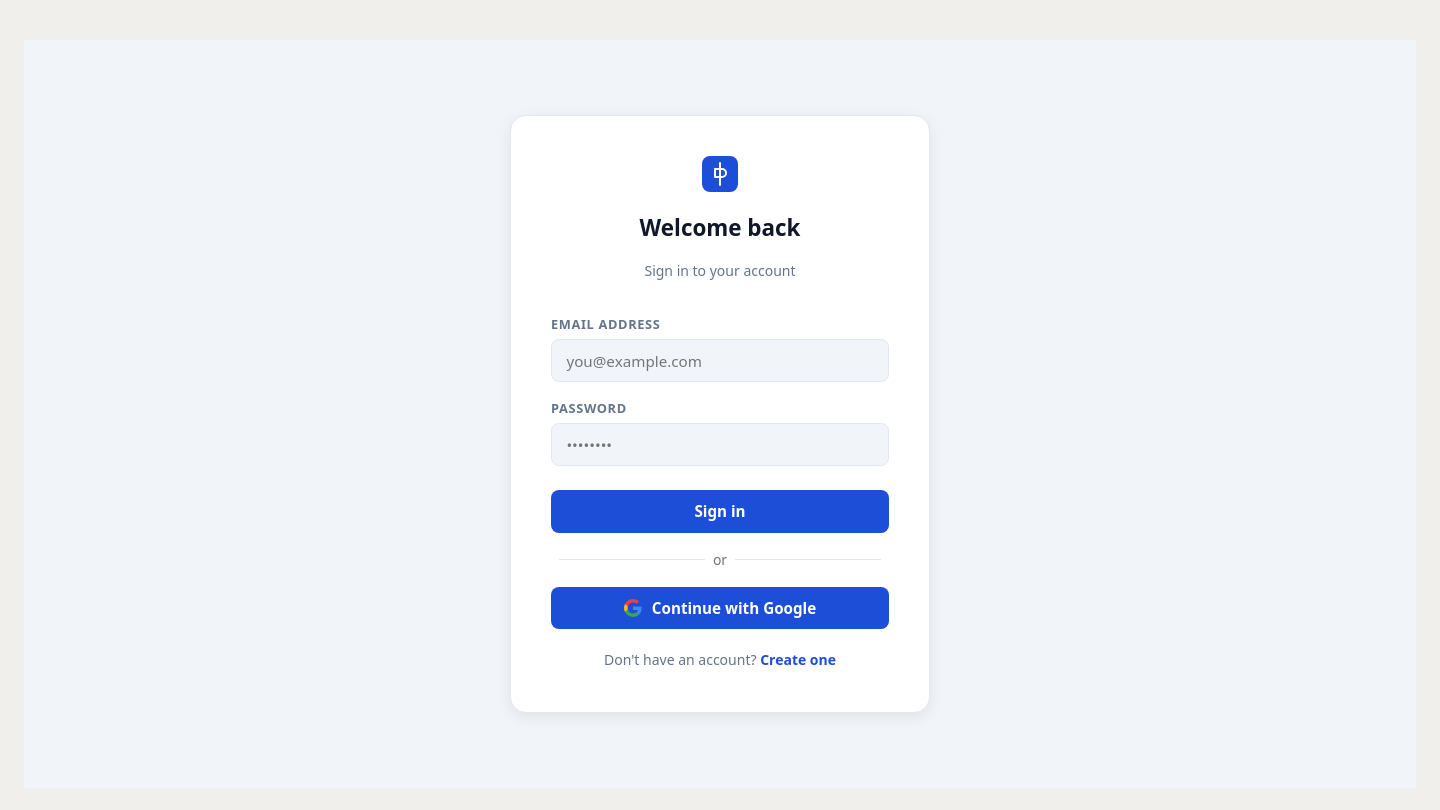
Test case: Login Page — Google Sign-In › shows error message when Google sign-in fails
Click the button "Continue with Google". click: (720, 608)
box: [551,587,889,629]
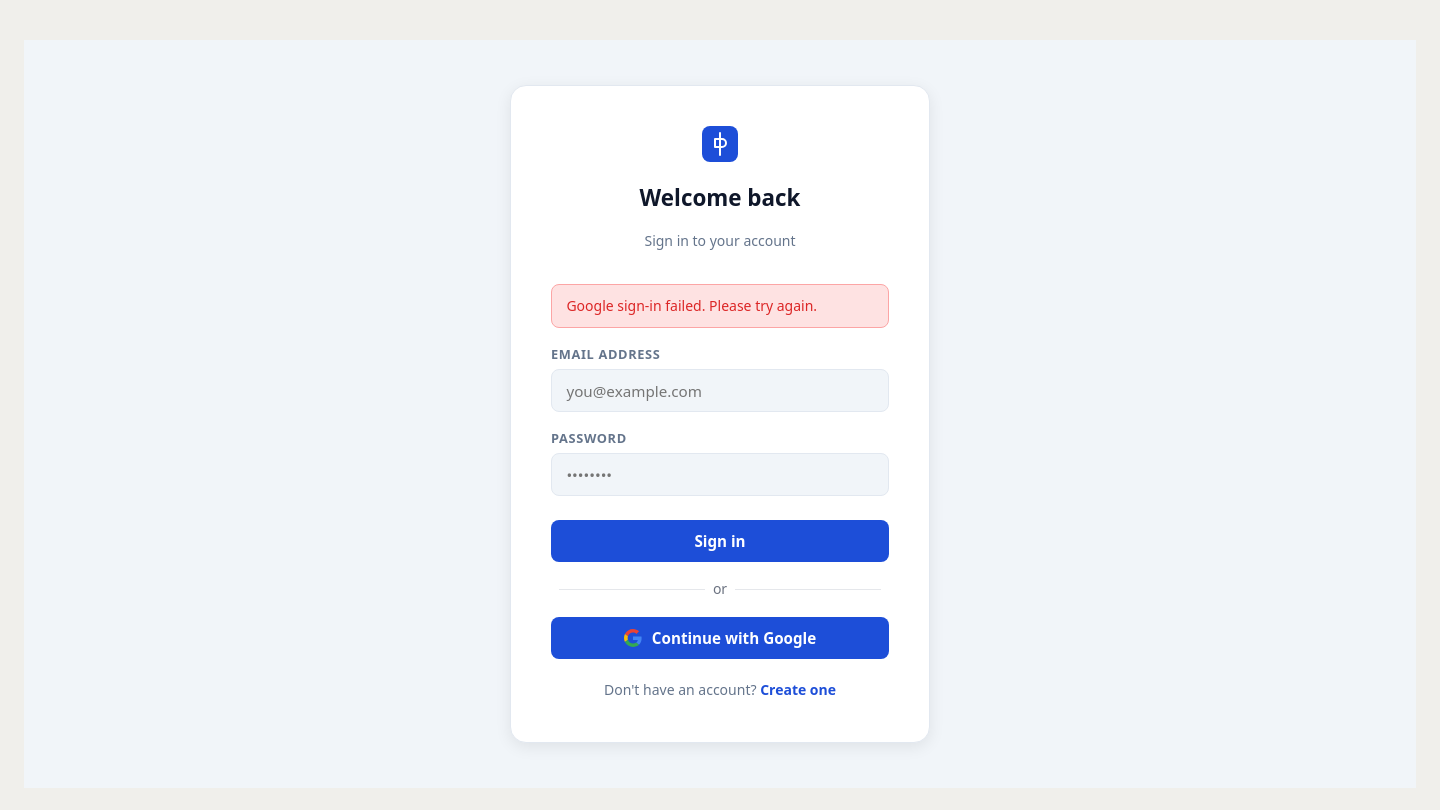
Result: the text "Google sign-in failed. Please try again." is shown at [551,284,889,328]
